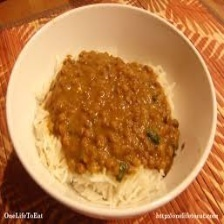rice: (71, 169, 172, 207)
